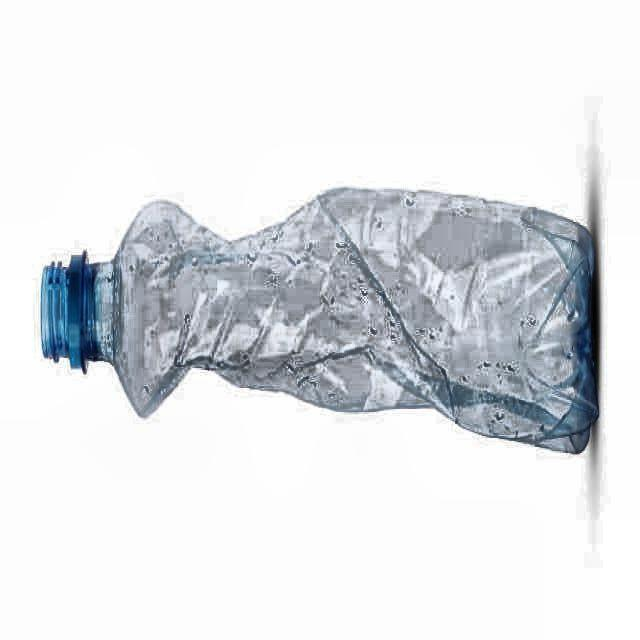plastic: (41, 188, 598, 452)
